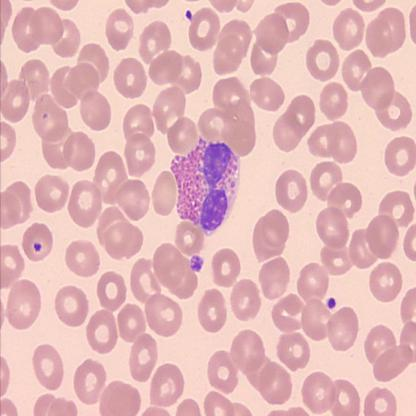Eosinophil: (168, 134, 242, 238)
